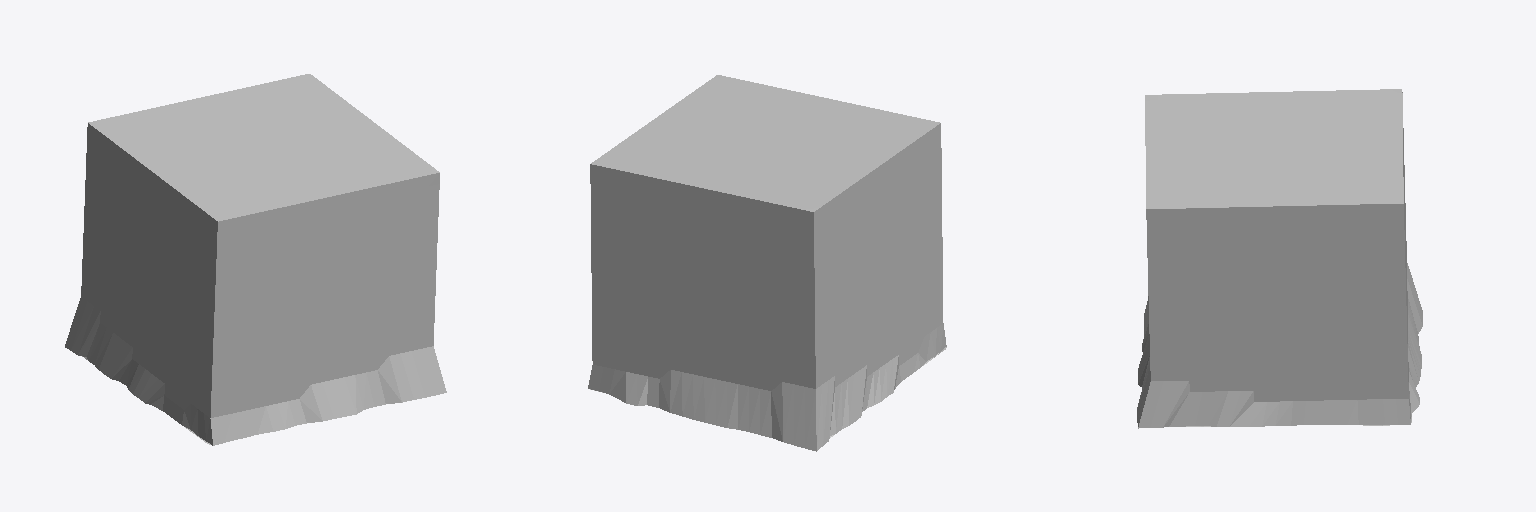
Rendered from mod0052.obj.
The picture shows the model from 3 angles: view 1: azimuth 30°, elevation 25°; view 2: azimuth 150°, elevation 25°; view 3: azimuth 270°, elevation 25°; orthographic projection.
Parts seen in each view (by area): view 1: Box001; view 2: Box001; view 3: Box001.
Boxes of the visible parts, x1=… form: Box001: x1=65, y1=74, x2=446, y2=445; Box001: x1=588, y1=75, x2=946, y2=451; Box001: x1=1137, y1=89, x2=1422, y2=428.
Size of the model in its own units: 0.5799 by 0.5288 by 0.5979.